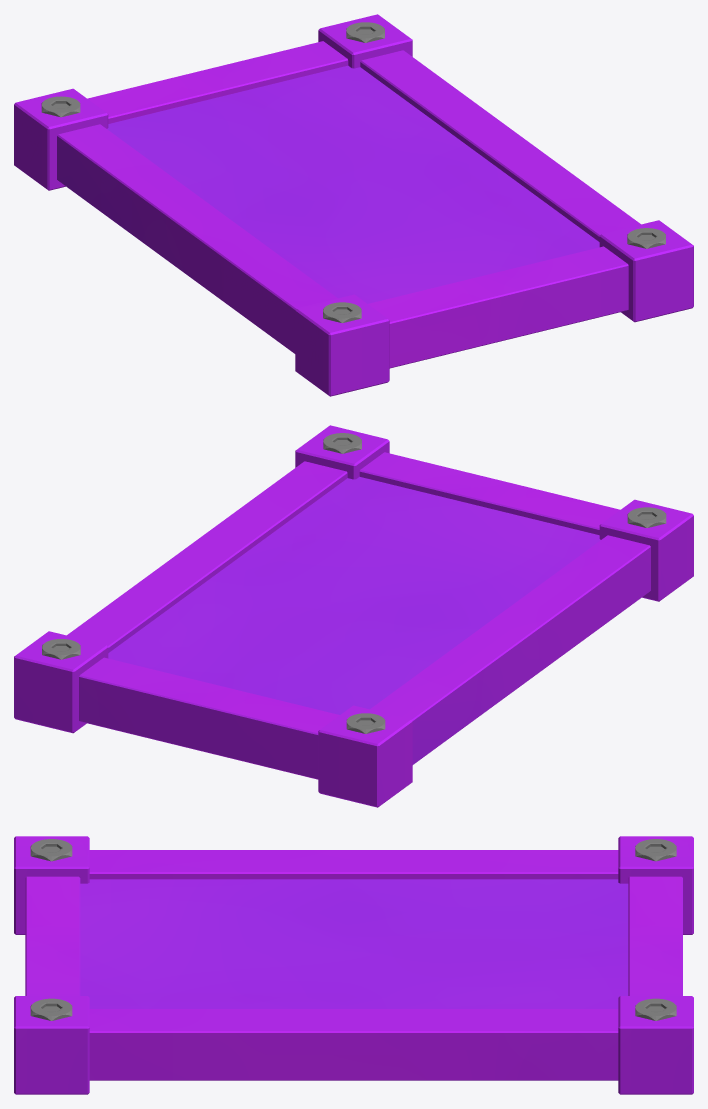
File: FramedRectanglePlatformPink.fbx
3 renders of one model, top to bottom at view 1: azimuth 30°, elevation 25°; view 2: azimuth 150°, elevation 25°; view 3: azimuth 270°, elevation 25°, orthographic. The views are drawn at different scales.
Visible parts, largest first — view 1: Cube, Cube.001; view 2: Cube, Cube.001; view 3: Cube, Cube.001.
Boxes of the visible parts, bbox=[...] form: Cube: bbox=[14, 14, 693, 396]; Cube.001: bbox=[41, 22, 665, 323]; Cube: bbox=[14, 425, 693, 807]; Cube.001: bbox=[42, 433, 666, 733]; Cube: bbox=[14, 836, 693, 1094]; Cube.001: bbox=[30, 839, 676, 1020].
Size of the model in its own units: 6 by 1.05 by 9.
